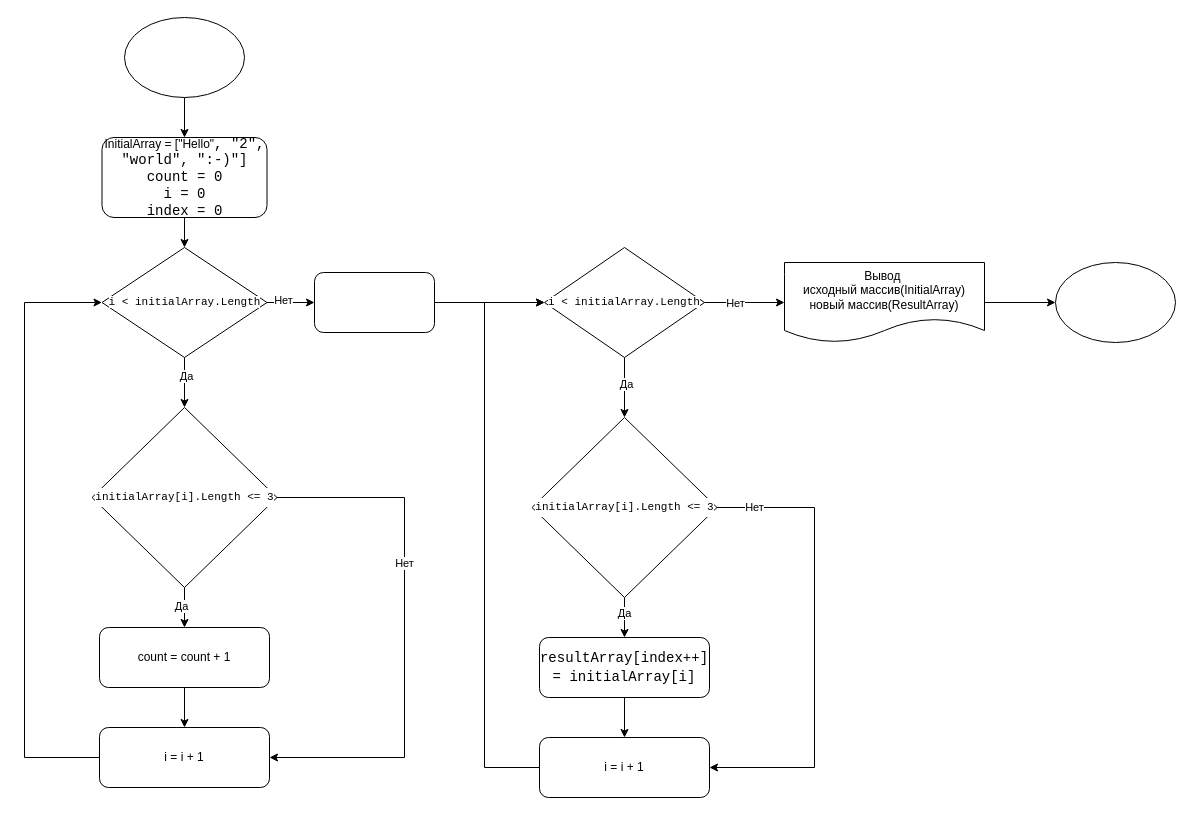
Image size: 1193x815. Some labels were removed from this diagram. The centre of each missing label's shape, as x and y in pixels:
i = 0: point (374, 302)
Конец: point (1115, 302)
начало: point (184, 57)
